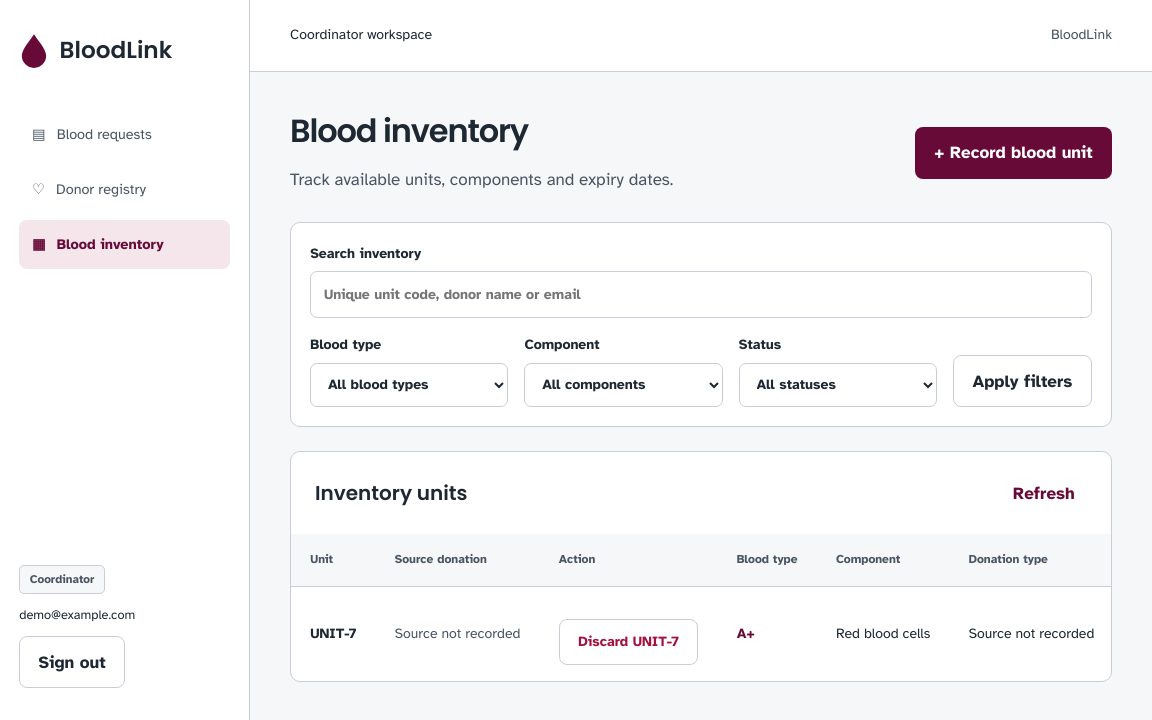
Test: reserved unit discard requires a second confirmation after the server warning
Click the button "Discard UNIT-7" at (629, 642), box left=559, top=619, right=698, bottom=665
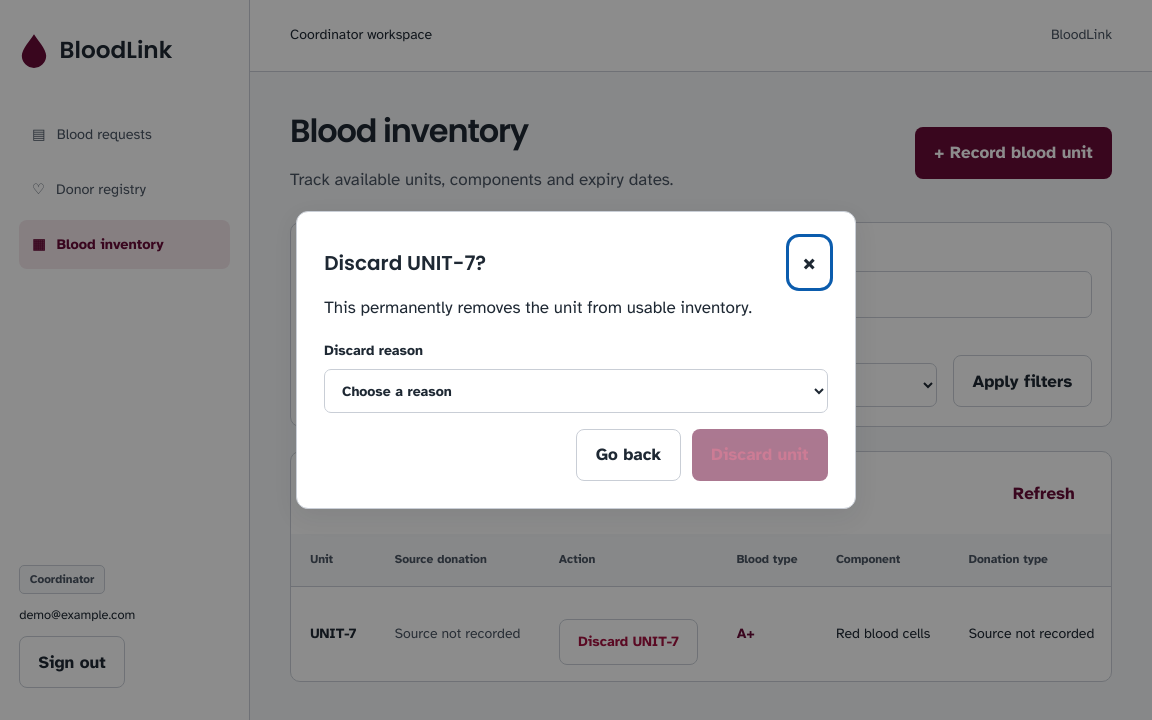
Select "Damaged" in the dropdown labelled "Discard reason" at (576, 391), box left=324, top=369, right=828, bottom=413
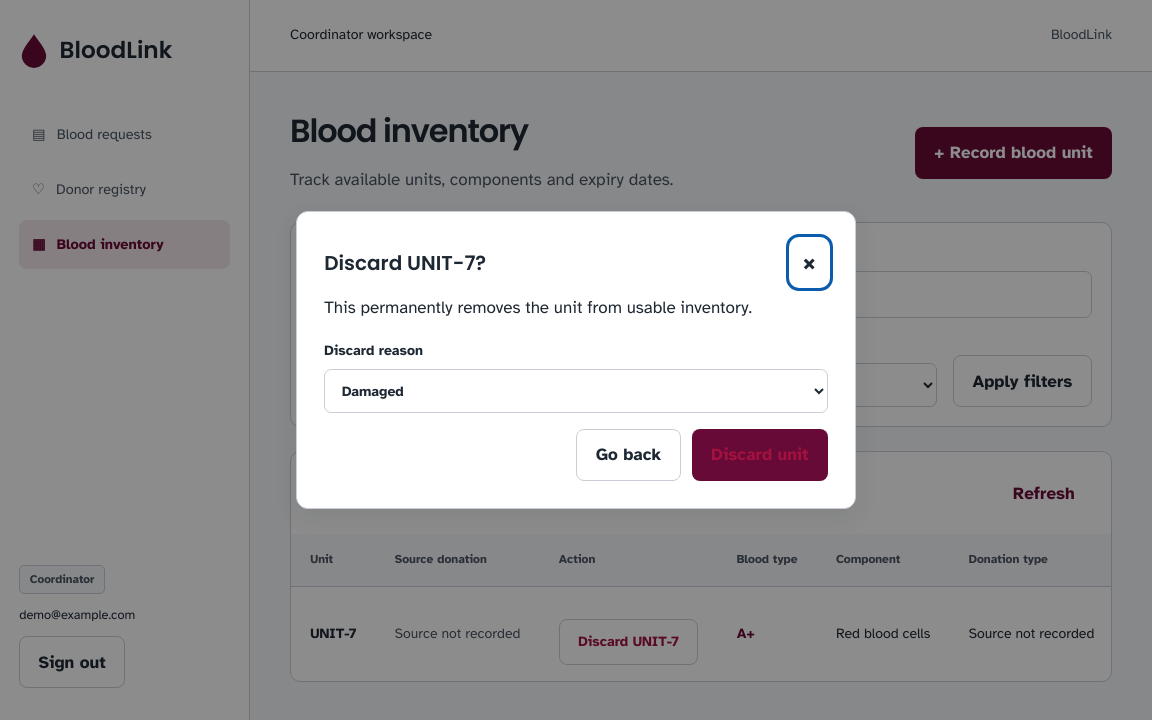
Click the button "Discard unit" at (760, 455), box left=692, top=429, right=828, bottom=481
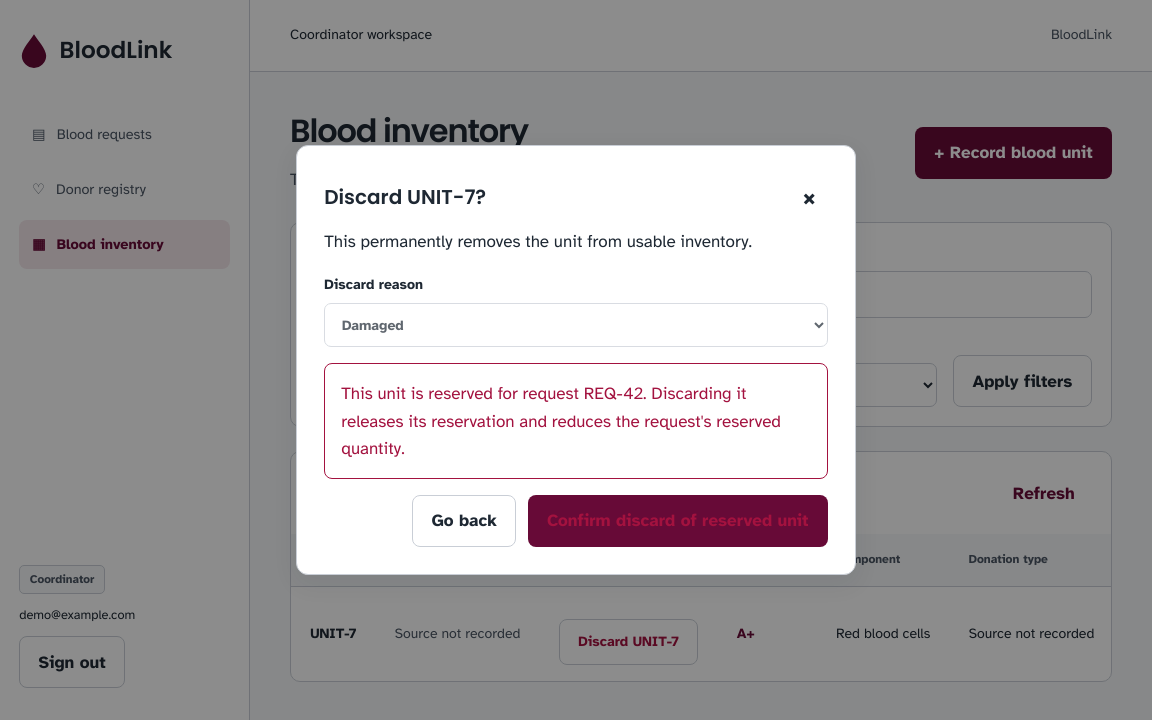
expect the message shows "REQ-42": met, box left=324, top=363, right=828, bottom=479
Click the button "Confirm discard of reserved unit" at (678, 521), box left=528, top=495, right=828, bottom=547
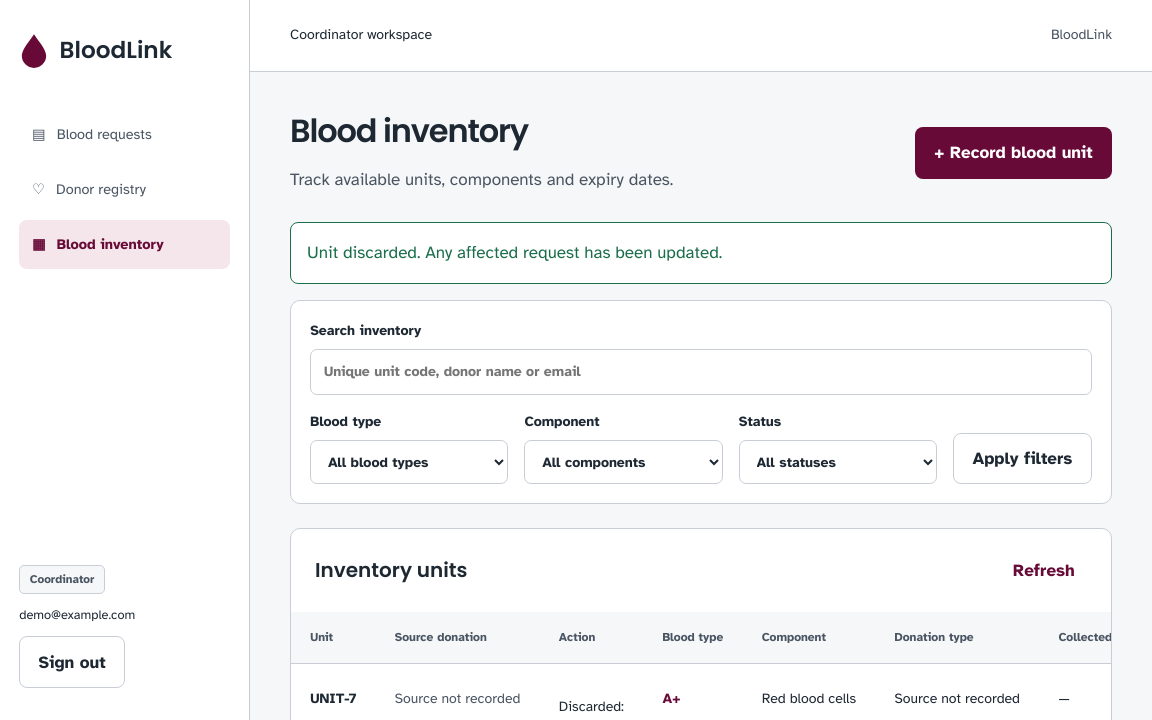
expect the text "Unit discarded. Any affected request has been updated." is shown: met, box left=290, top=222, right=1112, bottom=284
